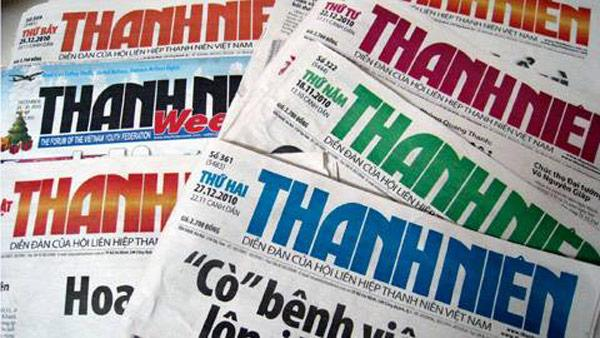paper: (0, 1, 600, 338)
